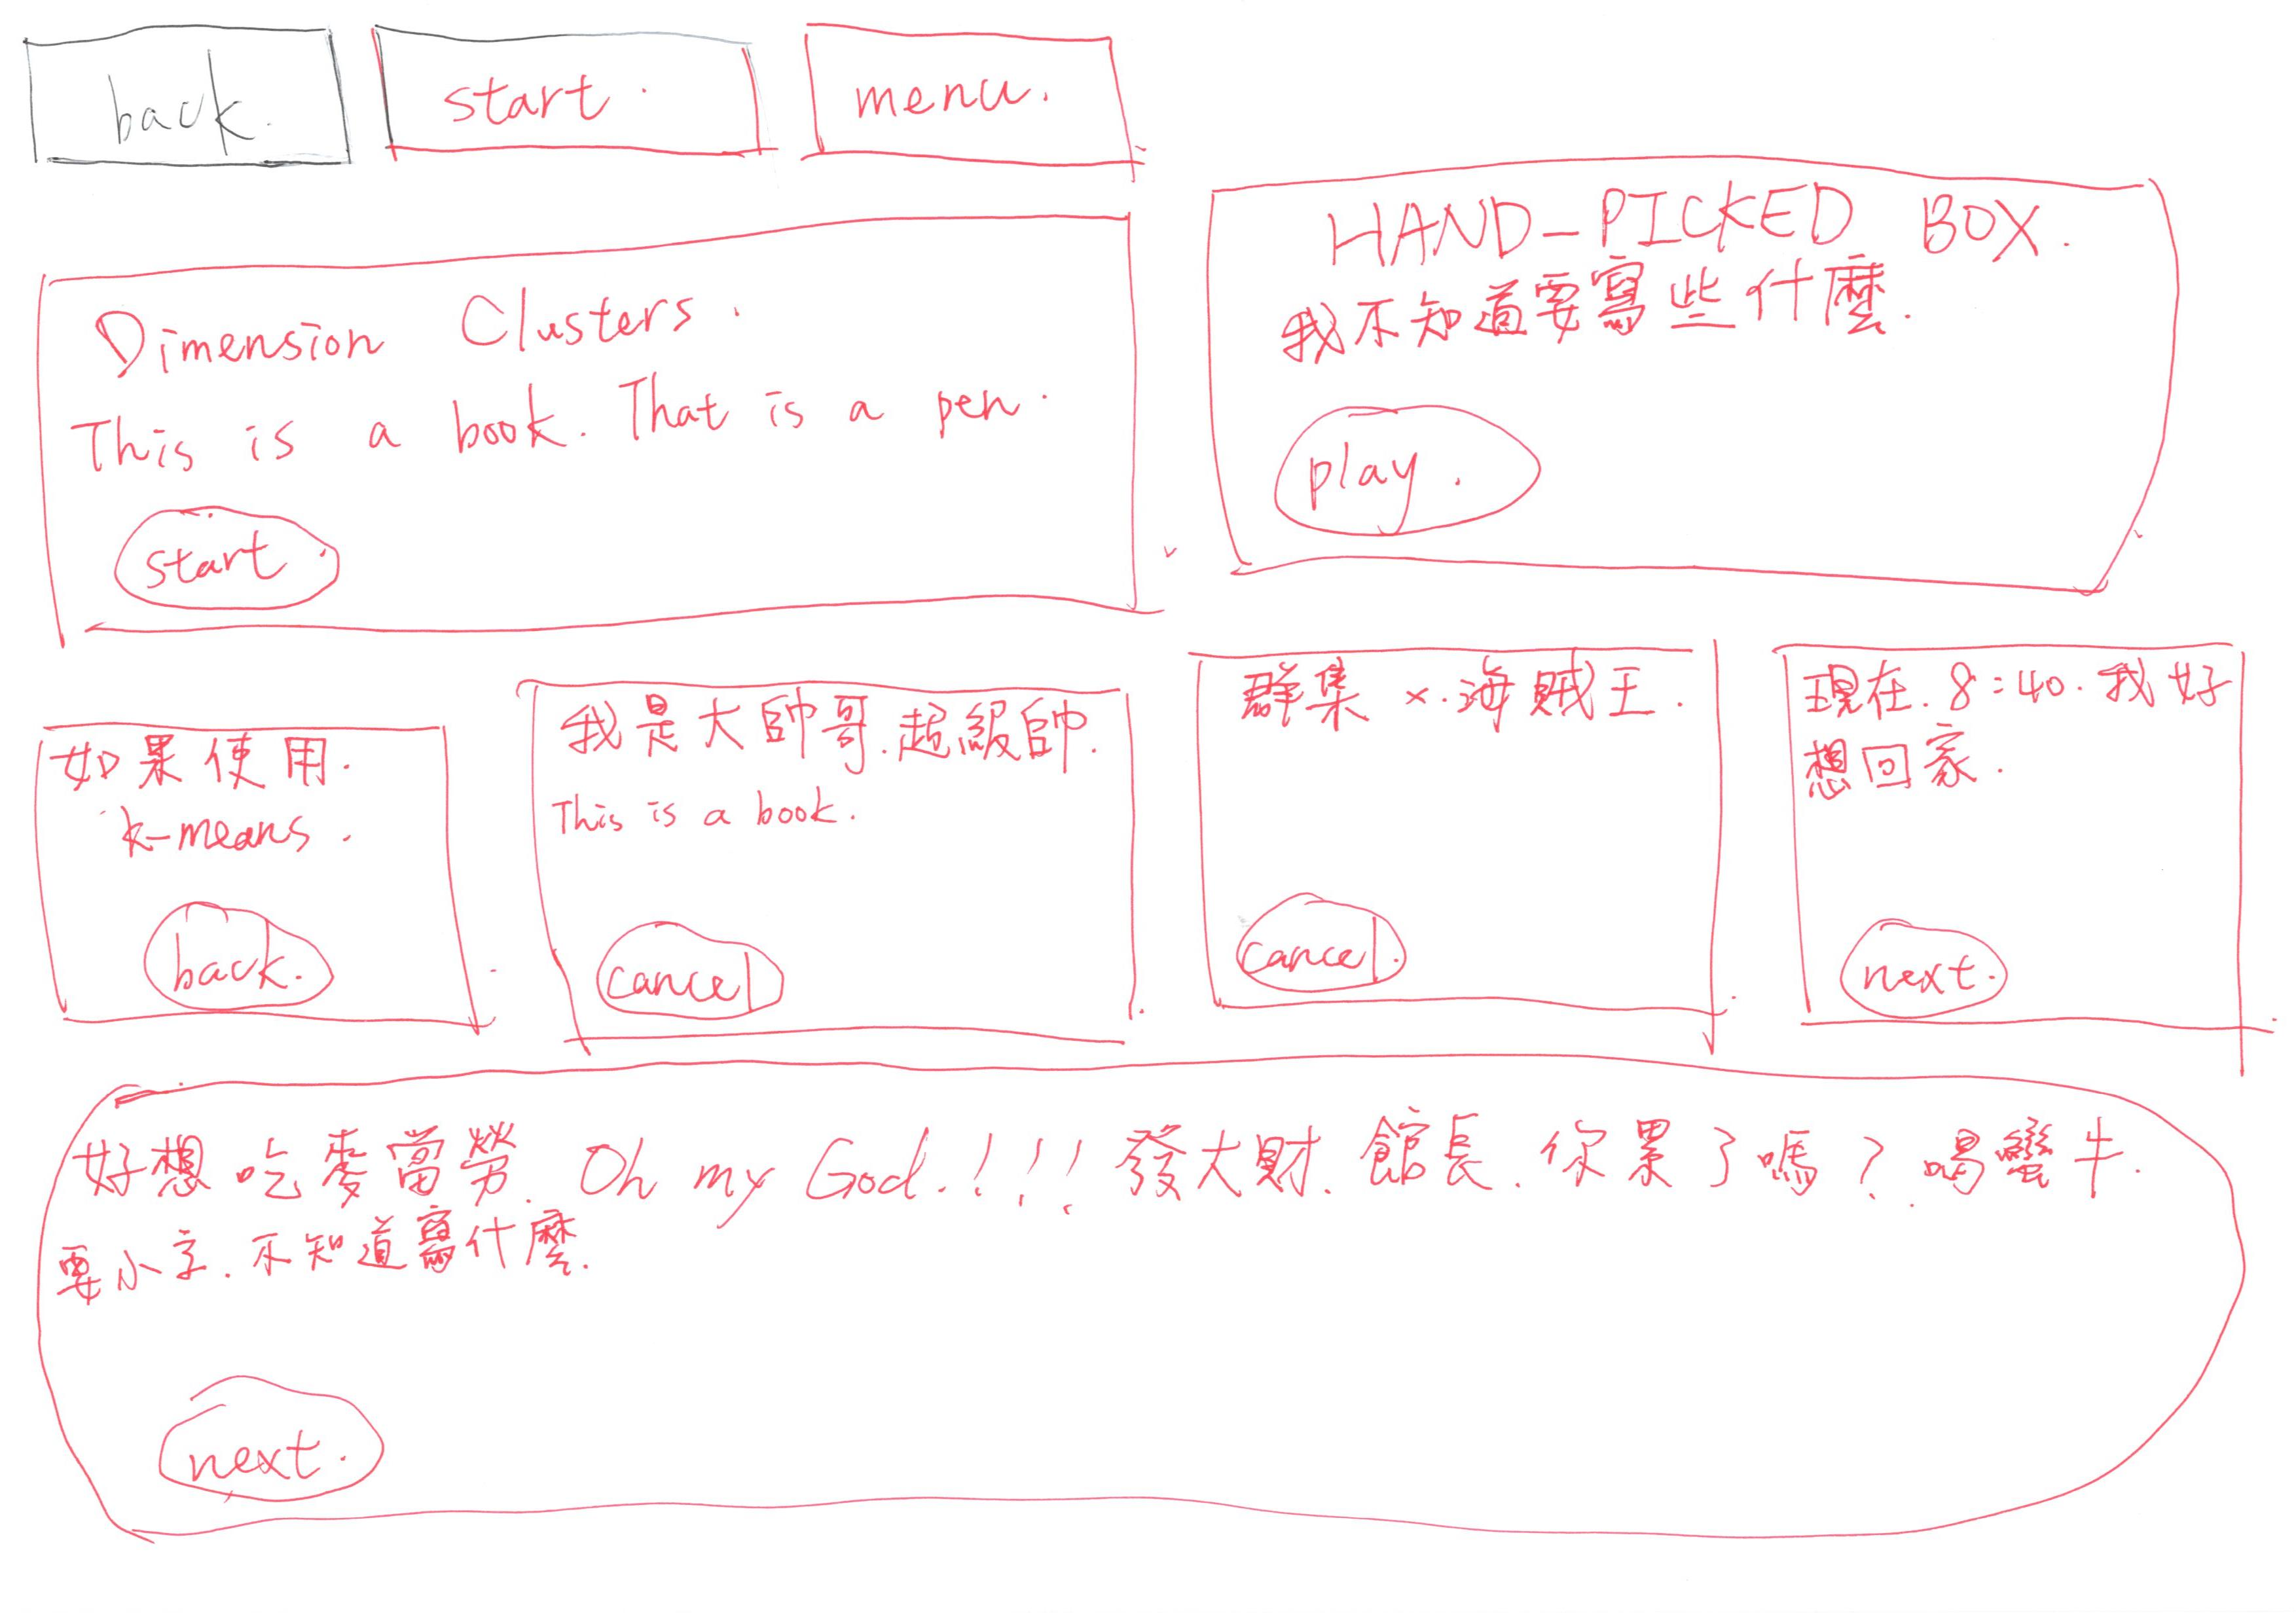back: (2, 9, 376, 218), (132, 870, 371, 1028)
cancel: (564, 903, 849, 1046), (1215, 870, 1433, 1023)
double: (0, 190, 1180, 659), (1176, 141, 2268, 619)
menu: (805, 0, 1190, 214)
next: (137, 1343, 408, 1533), (1827, 893, 2032, 1032)
play: (1246, 385, 1563, 562)
quadruple: (494, 650, 1183, 1074), (1197, 610, 1762, 1081), (1742, 619, 2296, 1074), (0, 670, 508, 1063)
row: (2, 128, 2294, 649), (5, 1026, 2296, 1545), (5, 601, 2296, 1098), (7, 0, 2289, 220)
single: (18, 1055, 2296, 1568)
small-title: (102, 1137, 564, 1299), (1802, 652, 2231, 816), (1287, 172, 2057, 257), (84, 276, 703, 376), (56, 749, 403, 868), (554, 698, 1069, 772), (1250, 654, 1654, 747)
start: (352, 2, 784, 183), (74, 489, 373, 627)
text: (587, 1109, 2127, 1262), (91, 383, 1055, 453), (582, 775, 874, 861)
